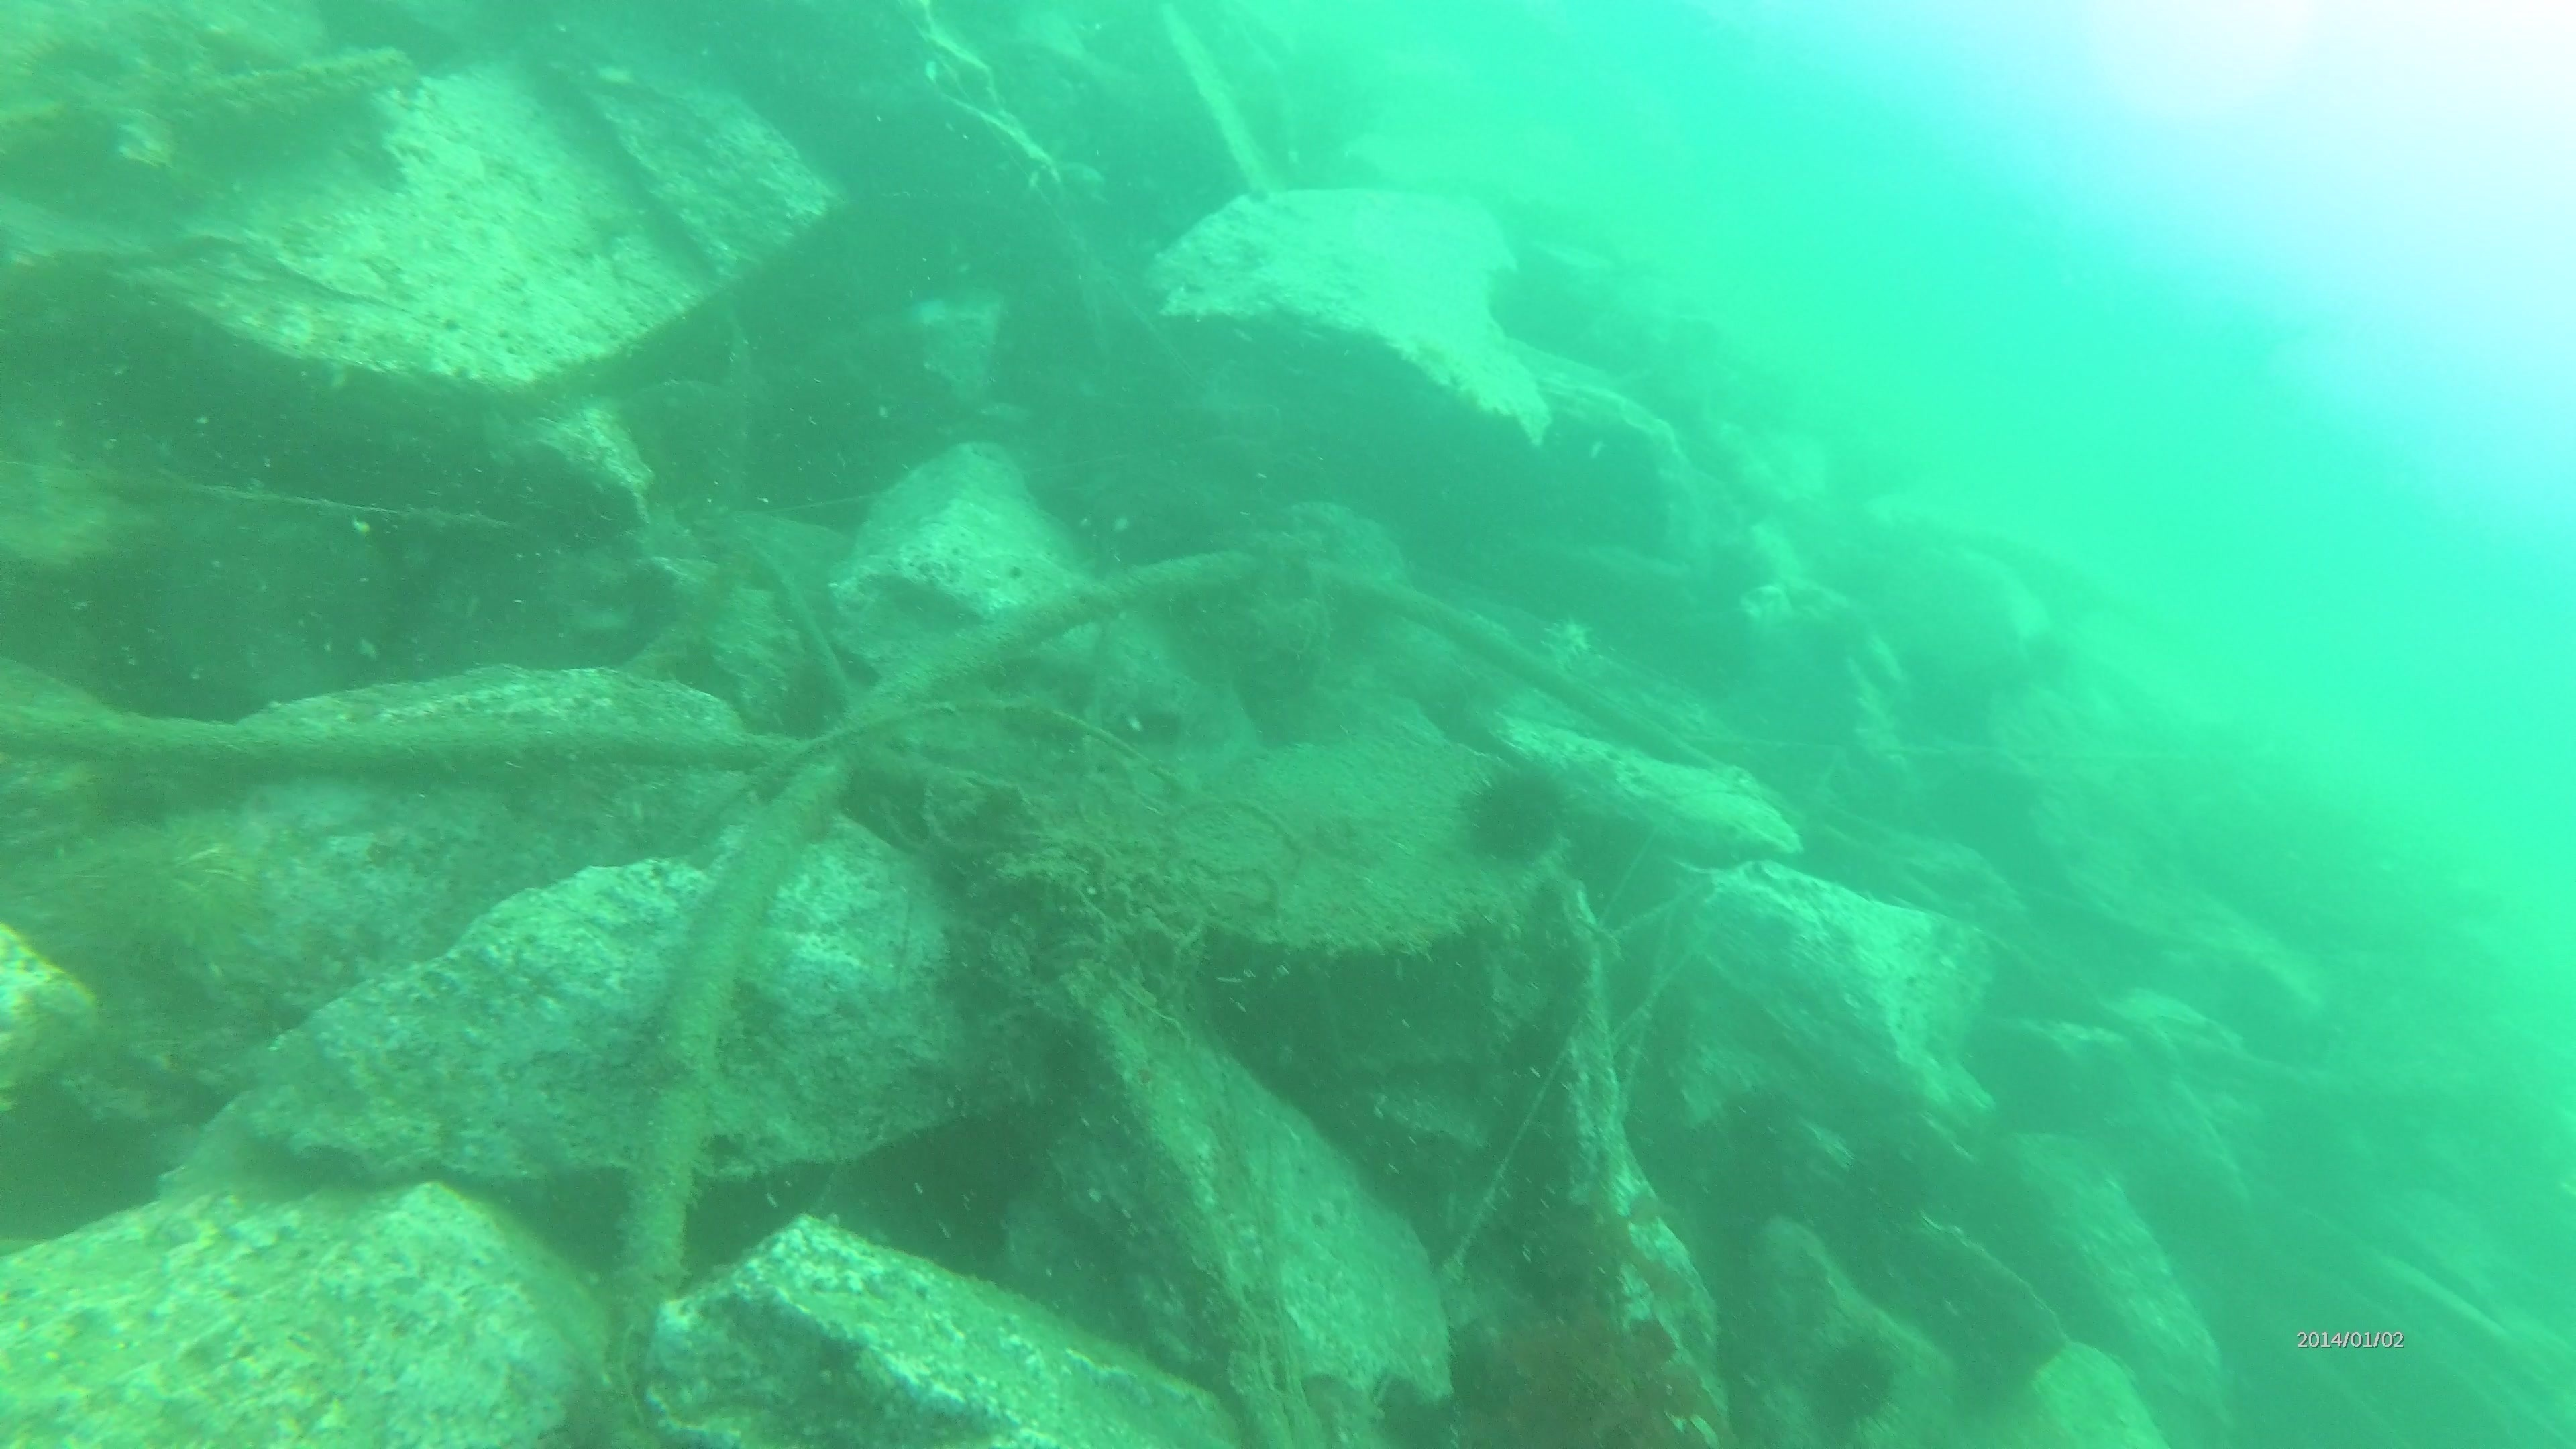echinus: (92, 803, 276, 973), (1453, 752, 1576, 872), (1798, 1327, 1907, 1438)
